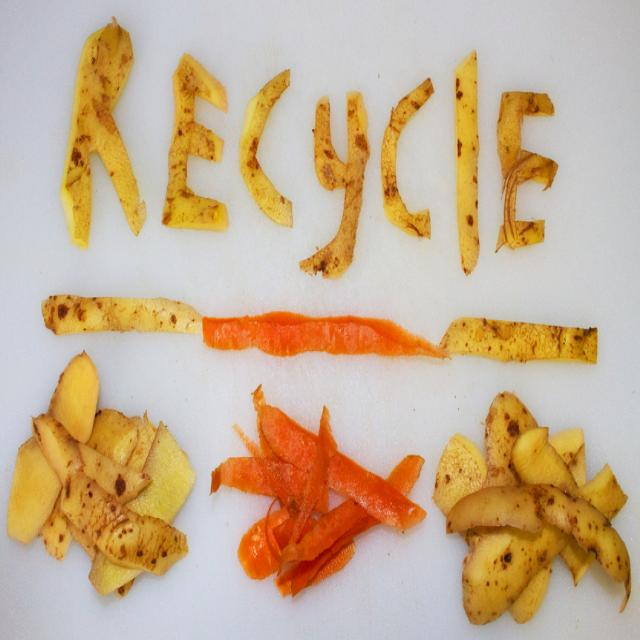Wet: (259, 402, 427, 532), (88, 428, 195, 598), (298, 89, 372, 284), (66, 464, 189, 579), (533, 481, 633, 613), (202, 308, 450, 355), (237, 70, 295, 238), (209, 456, 332, 518), (439, 319, 598, 366), (42, 295, 204, 337), (160, 48, 196, 236), (290, 407, 339, 545), (443, 481, 548, 540), (453, 51, 480, 280), (8, 440, 62, 548), (486, 389, 539, 478), (51, 351, 99, 445), (493, 92, 519, 261), (171, 52, 229, 114), (312, 92, 348, 190), (164, 188, 230, 232), (168, 119, 226, 163), (493, 153, 559, 191), (498, 86, 556, 122), (493, 217, 546, 255), (507, 382, 508, 383)
